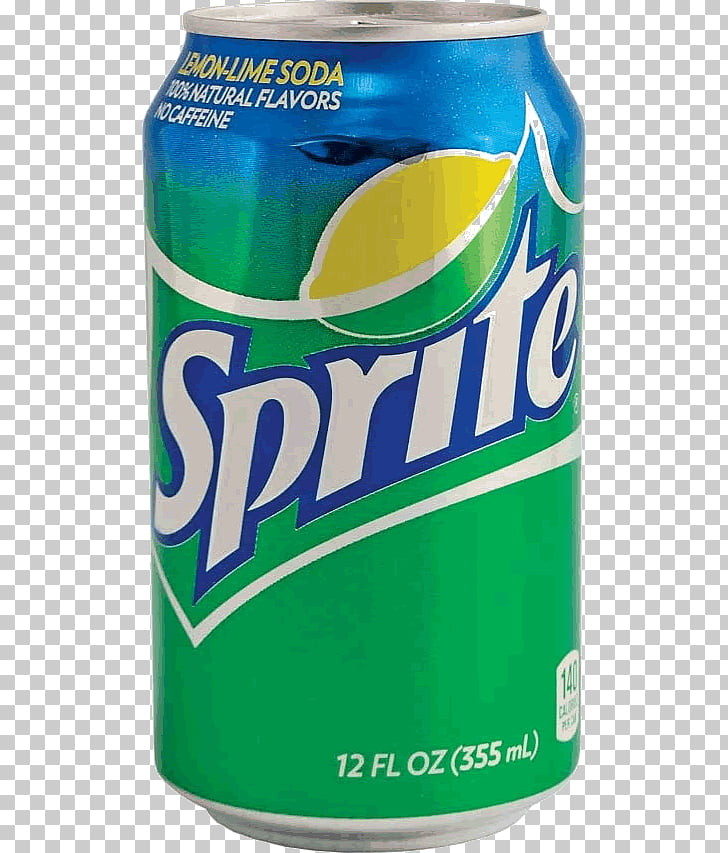sprite_can: (144, 3, 586, 851)
